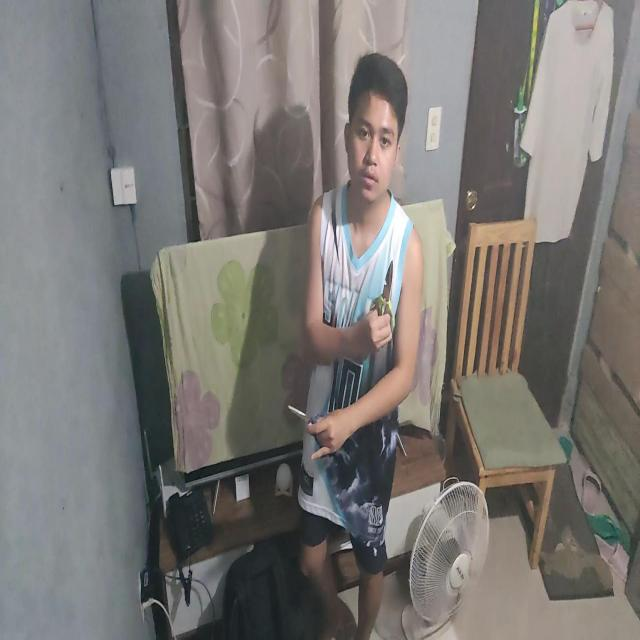scissor: (370, 258, 394, 333), (287, 403, 329, 444)
